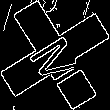M_NE: (21, 22, 89, 88)
